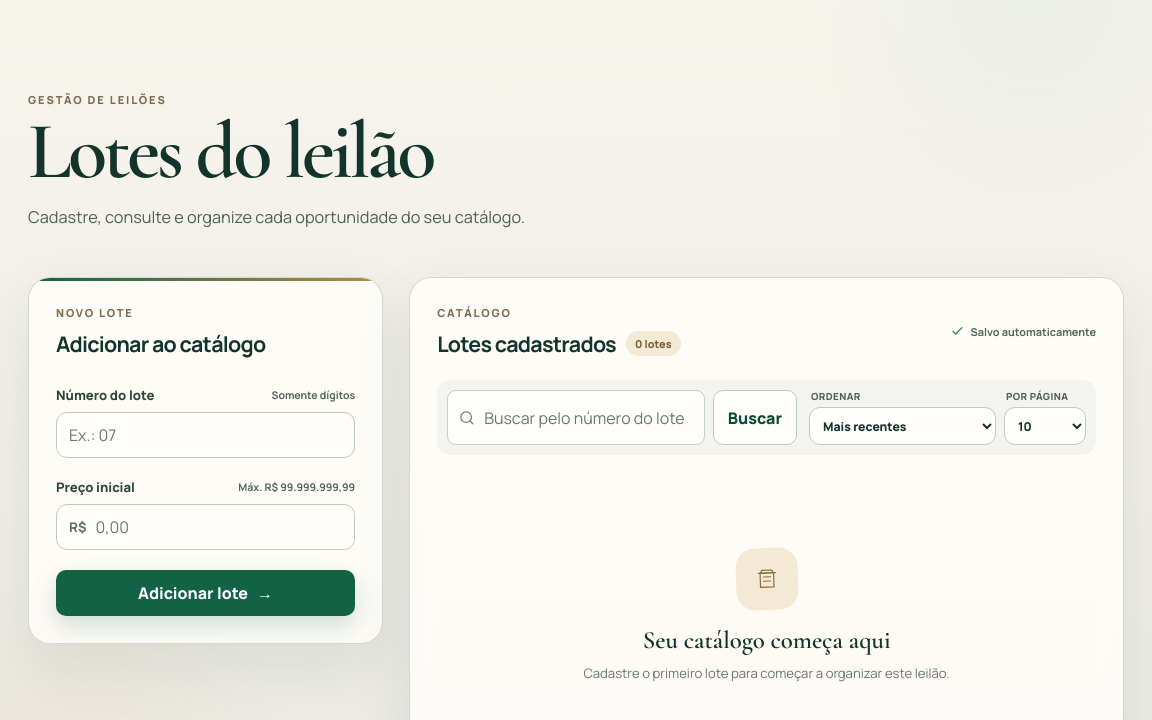
Test: App › impede caracteres não numéricos no campo de lote
Expected: the heading "Seu catálogo começa aqui" is shown, [643, 625, 890, 655]
Type "A1-B2" into the field labelled "Número do lote" at (206, 435), box [56, 412, 355, 458]
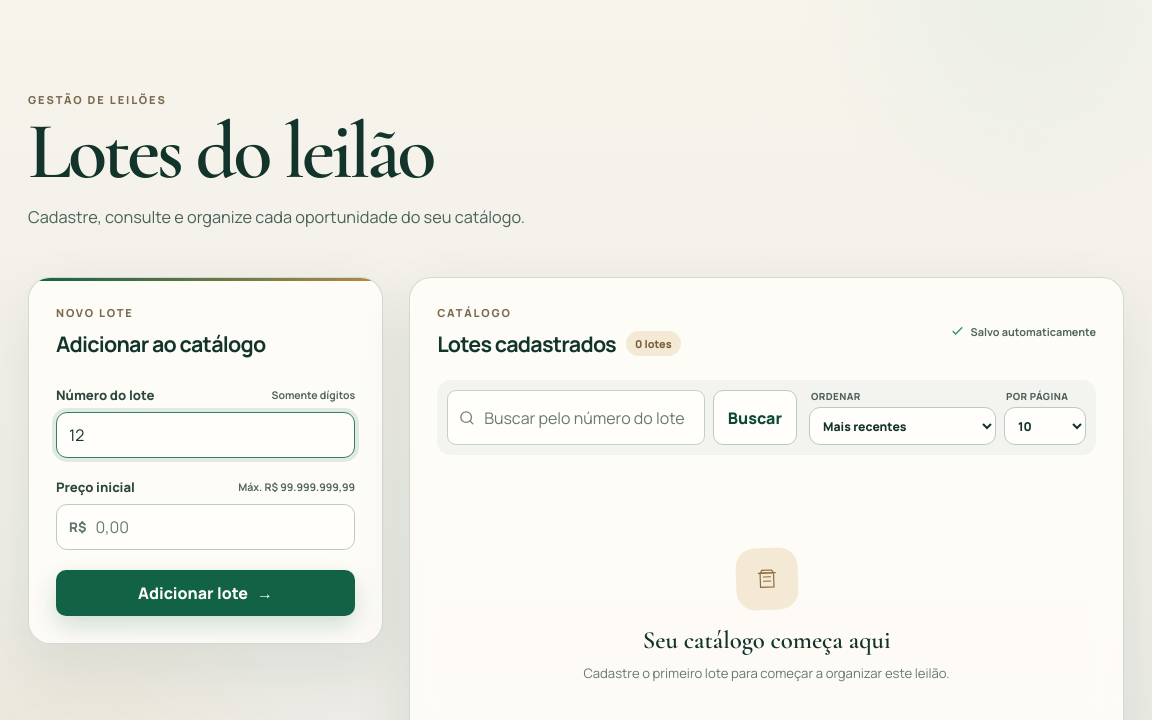
Expected: the field labelled "Número do lote" holds "12", [56, 412, 355, 458]
